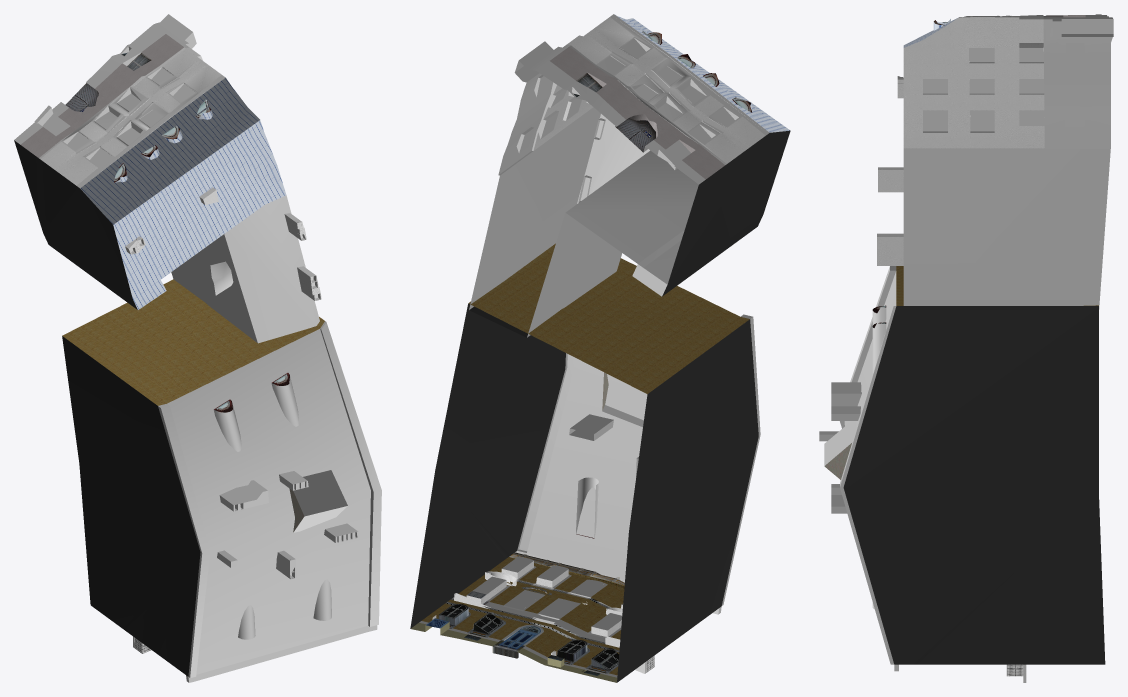
Rendered from Niguliste4-origo.obj.
3 views of the same model, side by side, from view 1: azimuth 30°, elevation 25°; view 2: azimuth 150°, elevation 25°; view 3: azimuth 270°, elevation 25° (orthographic). The views are drawn at different scales.
Parts seen in each view (by area): view 1: Niguliste4; view 2: Niguliste4; view 3: Niguliste4.
Part boxes in pixels (left/top/right/bottom): Niguliste4: left=14, top=14, right=381, bottom=682; Niguliste4: left=410, top=14, right=790, bottom=682; Niguliste4: left=819, top=14, right=1113, bottom=682.
Size of the model in its own units: 22.19 by 46.5 by 20.06.
